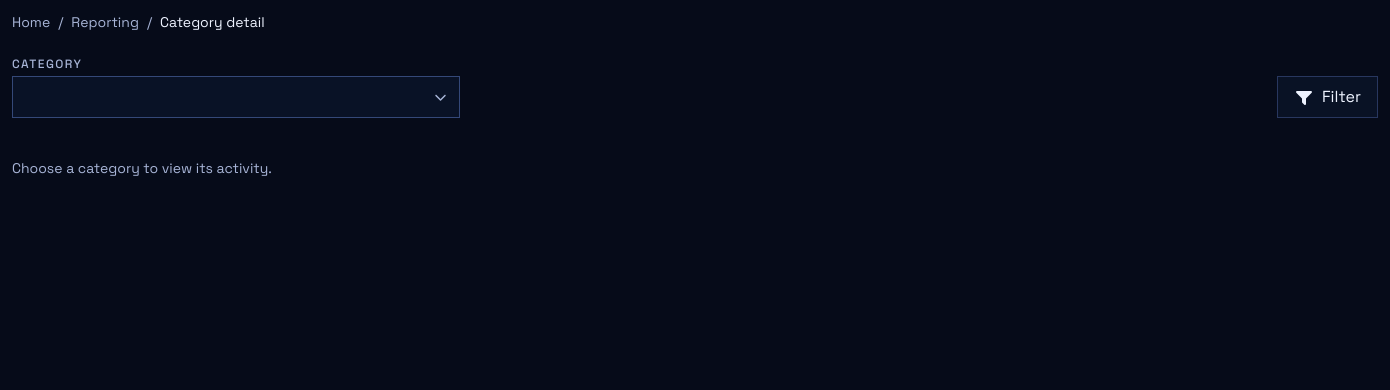
Scenario: category detail reporting › renders category detail rows and switches categories with the shared combobox
Expected: the text "Choose a category to view its activity." is shown, [12,159,272,177]
Click the dropdown labelled "Category": (236, 97) [12,76,460,118]
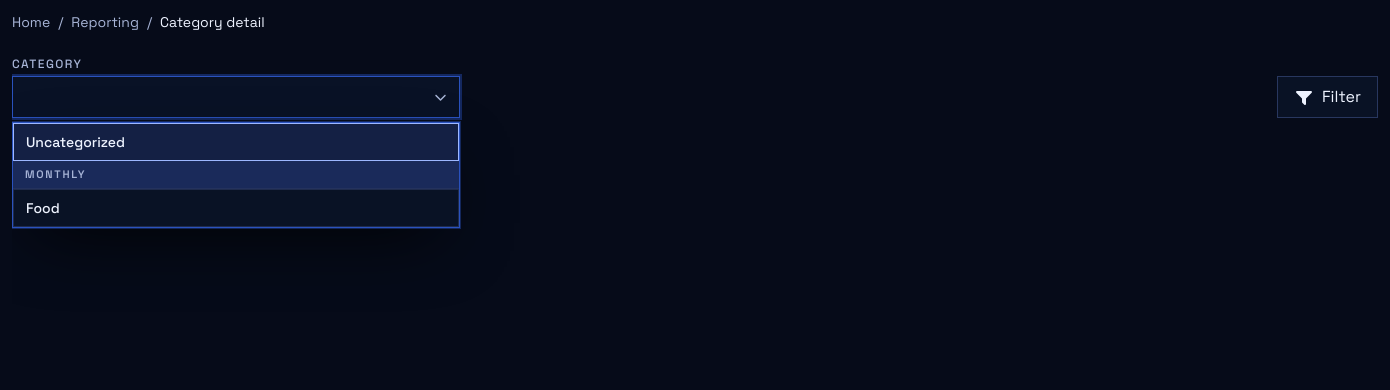
Press Escape
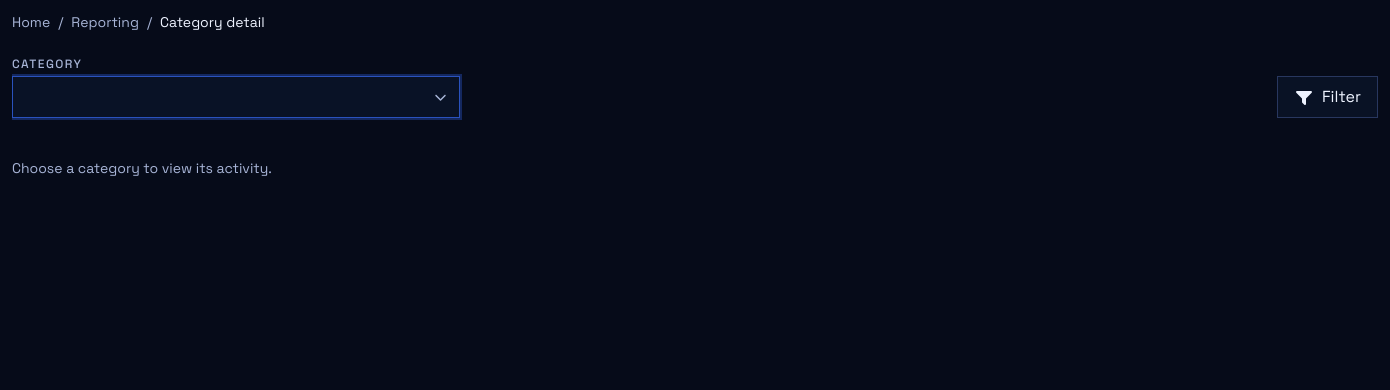
In the dropdown labelled "Category": (236, 97) [12,76,460,118], type "Food"
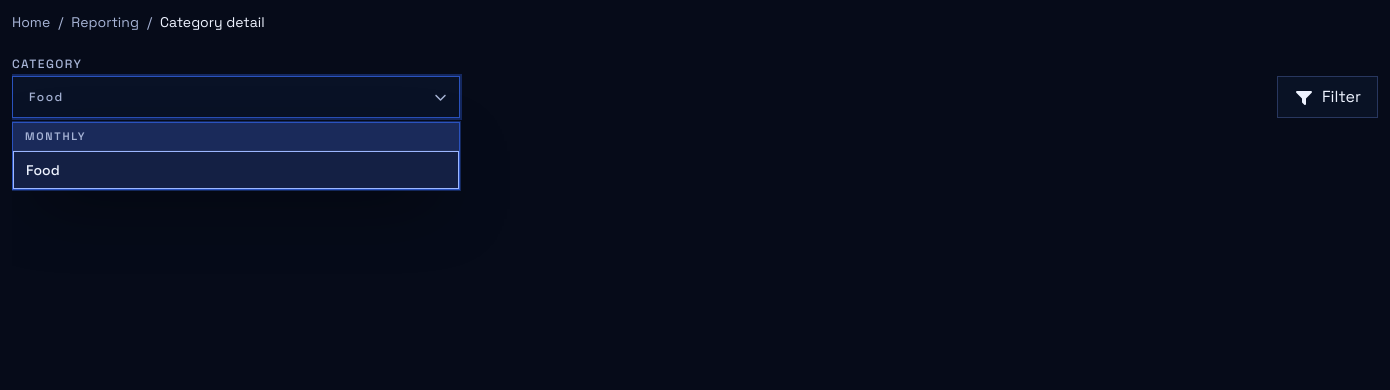
Press Enter
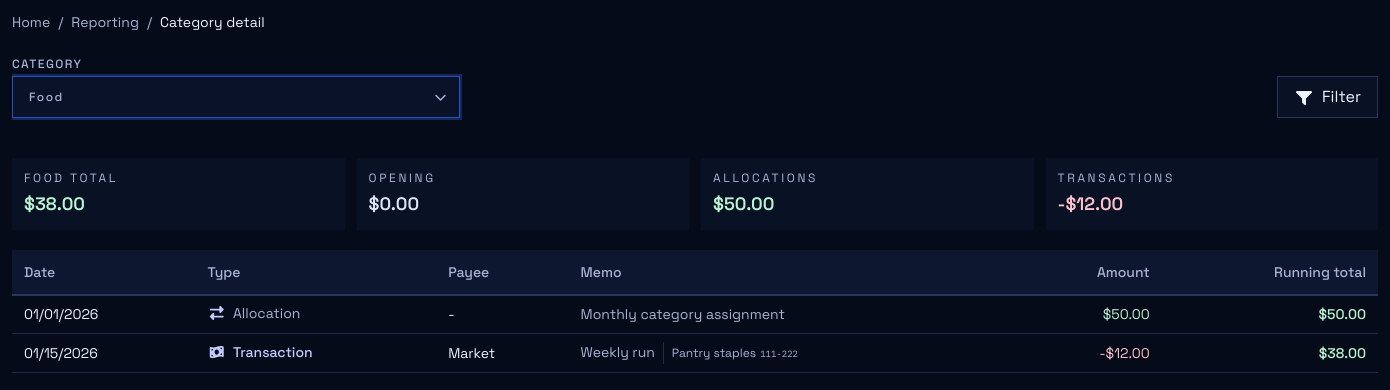
Expected: the text "Allocation" is shown, [233,303,300,323]
Expected: the text "Transaction" is shown, [233,342,313,362]
Expected: the picture next to "01/01/2026" is shown, [208,306,225,320]
